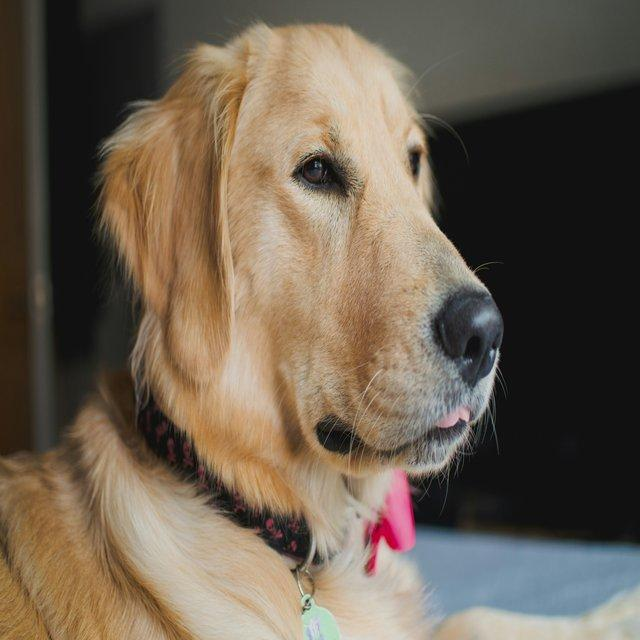retriever: (0, 20, 506, 633)
